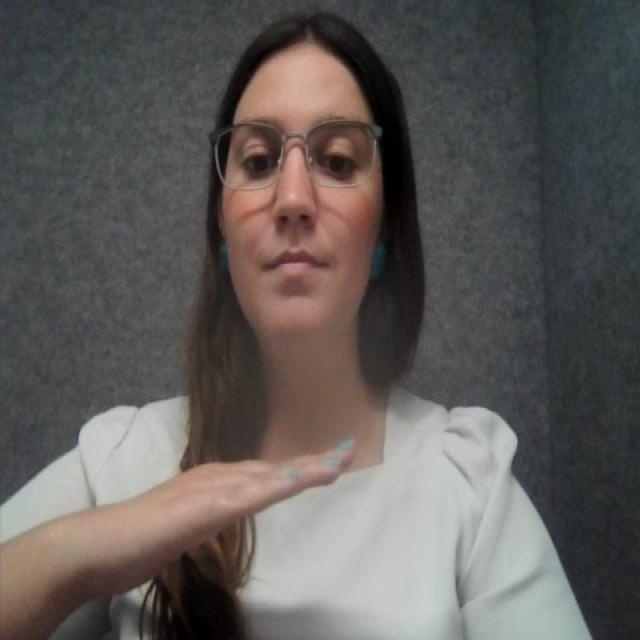Paper: (59, 408, 381, 620)
